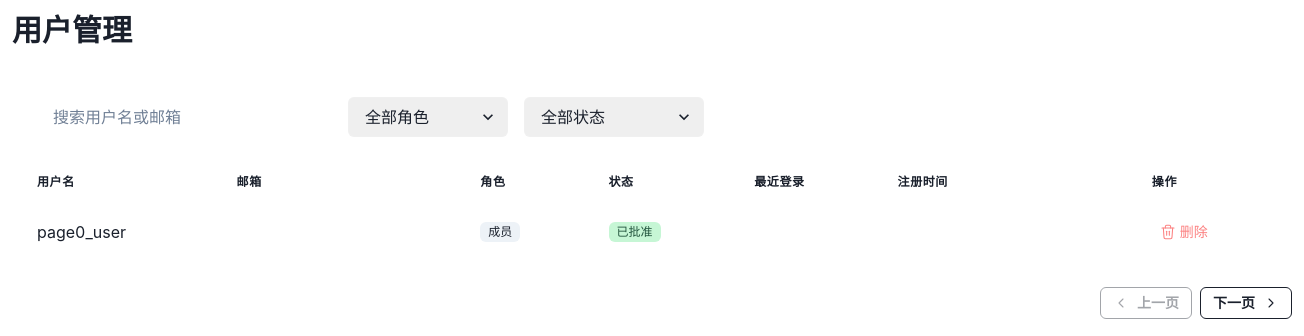
Test case: UsersPage › paginates with prev/next buttons
Expected: the text "page0_user" is shown, x1=37 y1=222 x2=126 y2=242
Expected: the button with test id "users-prev-page" is disabled, x1=1100 y1=287 x2=1192 y2=319
Click the button with test id "users-next-page".
click(1246, 303)  # box x1=1200 y1=287 x2=1292 y2=319
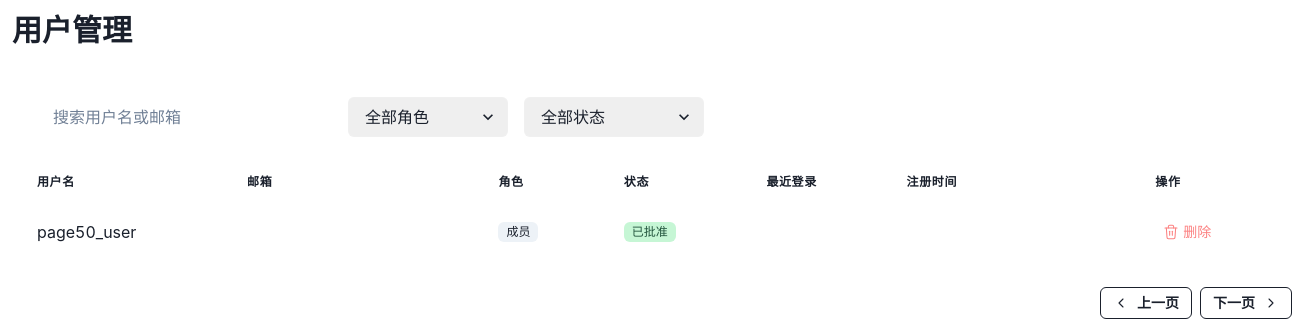
Expected: the text "page50_user" is shown, x1=37 y1=222 x2=136 y2=242
Expected: the button with test id "users-prev-page" is enabled, x1=1100 y1=287 x2=1192 y2=319
